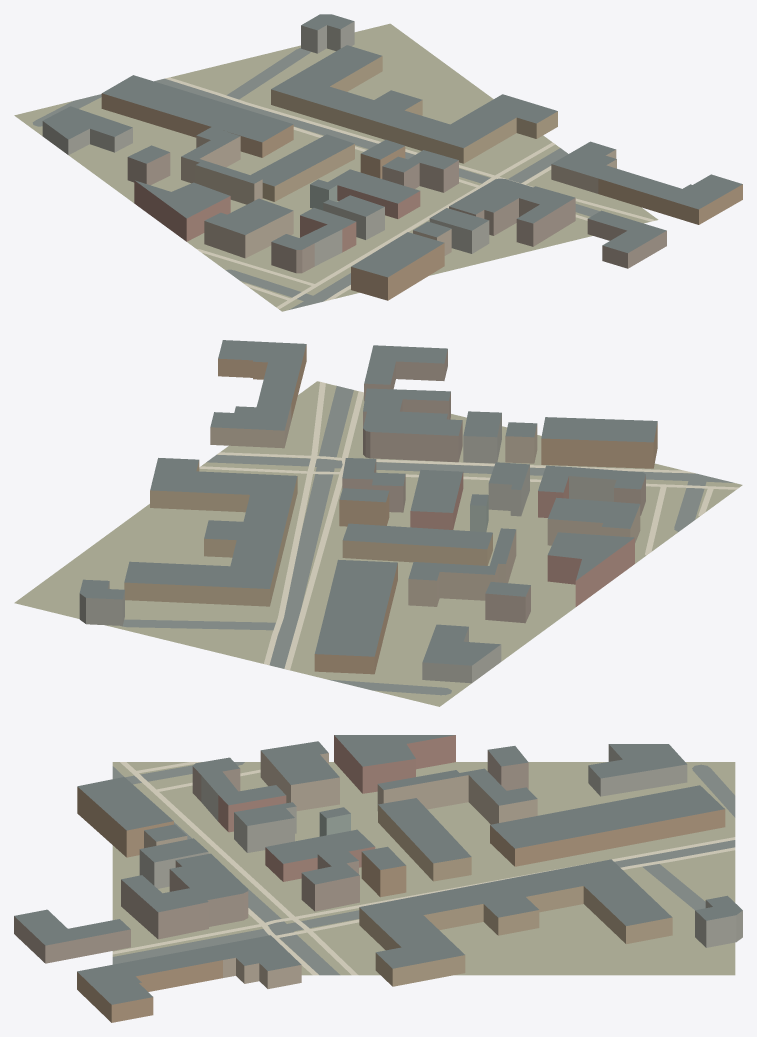
The model's file is sector--4_-1.glb.
The picture shows the model from 3 angles, top to bottom: view 1: azimuth 30°, elevation 25°; view 2: azimuth 150°, elevation 25°; view 3: azimuth 270°, elevation 25°; orthographic projection. The views are drawn at different scales.
Parts seen in each view (by area): view 1: -4:-1-facade, -4:-1-roof, -4:-1-ground, -4:-1-road, -4:-1-paving; view 2: -4:-1-roof, -4:-1-ground, -4:-1-facade, -4:-1-road, -4:-1-paving; view 3: -4:-1-roof, -4:-1-facade, -4:-1-ground, -4:-1-road, -4:-1-paving.
Boxes of the visible parts, box(x1,y1,x2,y2) form: -4:-1-facade: box(42, 21, 742, 300); -4:-1-roof: box(43, 14, 742, 277); -4:-1-ground: box(14, 23, 658, 311); -4:-1-road: box(32, 48, 599, 309); -4:-1-paving: box(165, 77, 655, 308); -4:-1-roof: box(79, 340, 657, 665); -4:-1-ground: box(14, 381, 742, 706); -4:-1-facade: box(79, 344, 657, 683); -4:-1-road: box(121, 386, 733, 695); -4:-1-paving: box(199, 381, 738, 670); -4:-1-roof: box(14, 735, 742, 1004); -4:-1-facade: box(14, 735, 742, 1022); -4:-1-ground: box(112, 762, 735, 975); -4:-1-road: box(112, 762, 735, 975); -4:-1-paving: box(112, 762, 735, 975).
Bounding box in the file's own units: 198 × 9.6 × 234.
